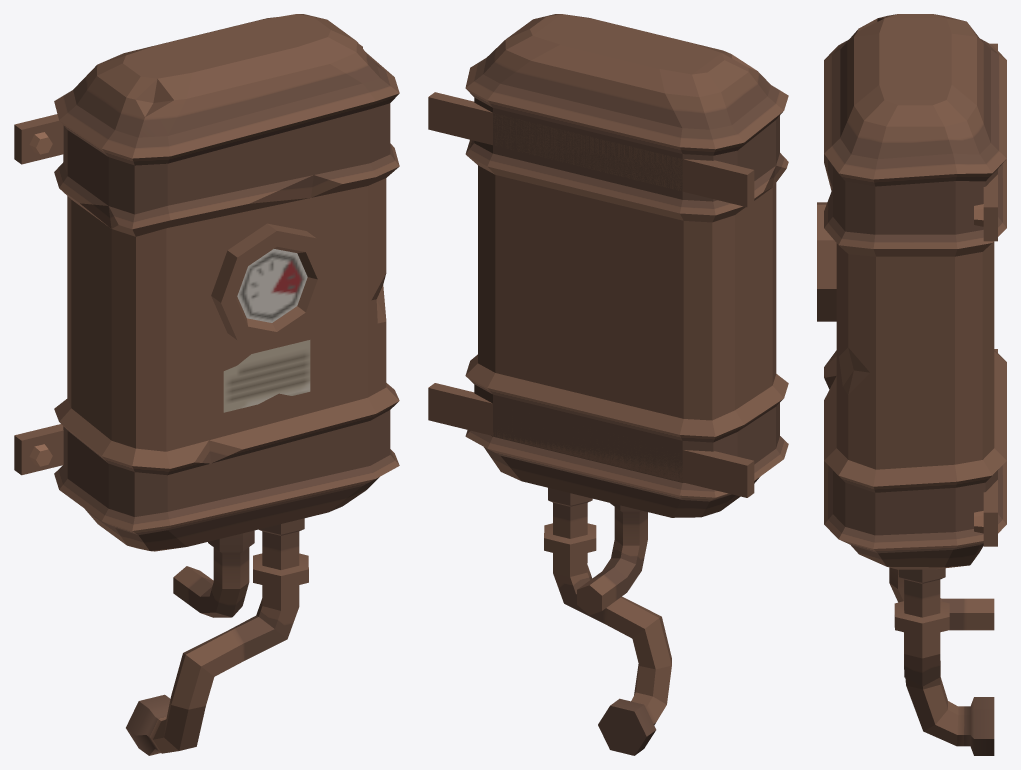
Rendered from SM_Prop_Water_Heater_01.fbx.
3 renders of one model, left to right at view 1: azimuth 30°, elevation 25°; view 2: azimuth 150°, elevation 25°; view 3: azimuth 270°, elevation 25°, orthographic. The views are drawn at different scales.
Parts seen in each view (by area): view 1: SM_Prop_Water_Heater_01; view 2: SM_Prop_Water_Heater_01; view 3: SM_Prop_Water_Heater_01.
Part boxes in pixels (<box>): SM_Prop_Water_Heater_01: <box>14,14,399,755</box>; SM_Prop_Water_Heater_01: <box>428,14,788,755</box>; SM_Prop_Water_Heater_01: <box>817,14,1006,755</box>.
Bounding box in the file's own units: 61.91 × 125 × 30.33.
